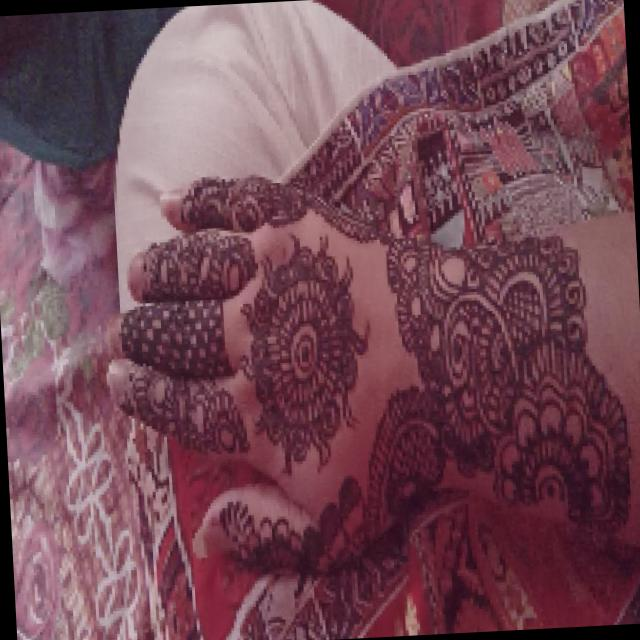Nail: (191, 524, 229, 559), (106, 360, 128, 398), (127, 256, 143, 293), (158, 192, 178, 218), (110, 319, 120, 347)
